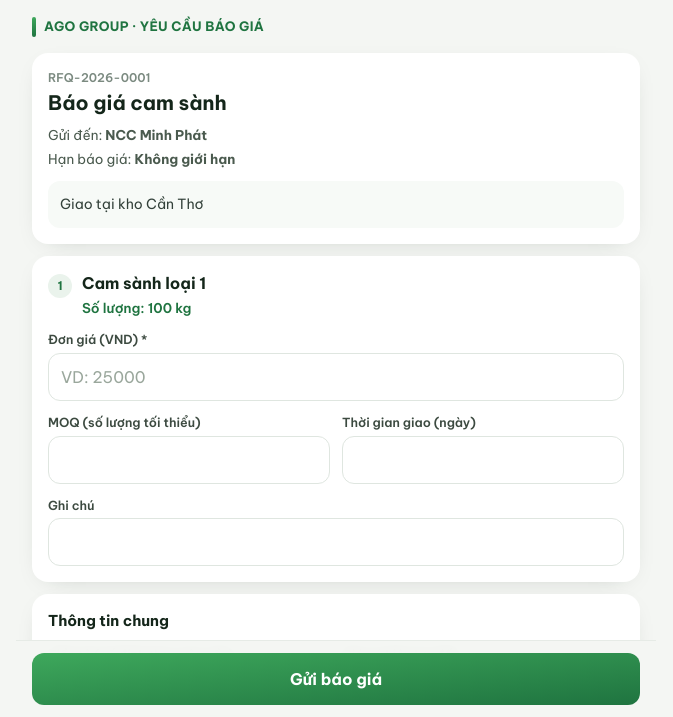
Test: PublicQuotePage › 429 hiện thông báo ngay tại form
Check: the heading "Báo giá cam sành" is shown, box [48,90,227,115]
Type "1" into the field with placeholder "VD: 25000" at x=336, y=377, box [48,353,624,401]
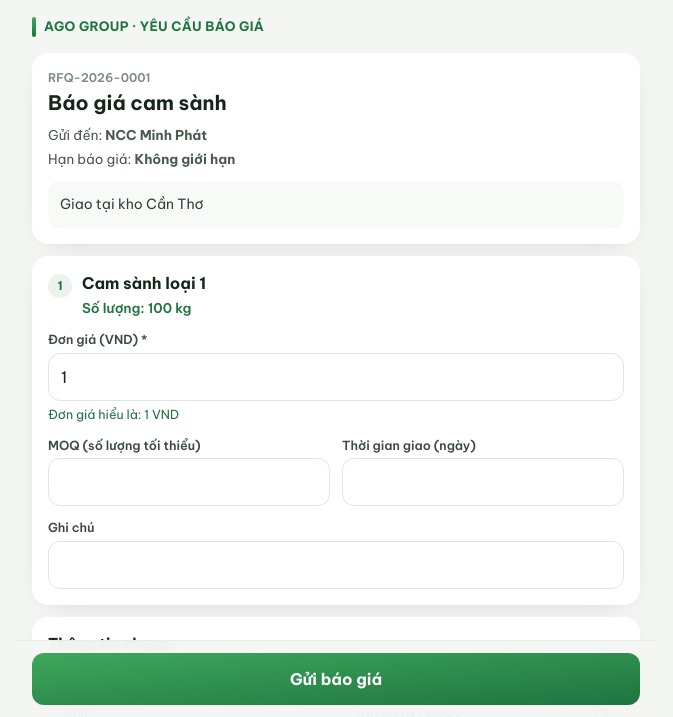
Click the button "Gửi báo giá" at x=336, y=679, box [32,653,640,705]
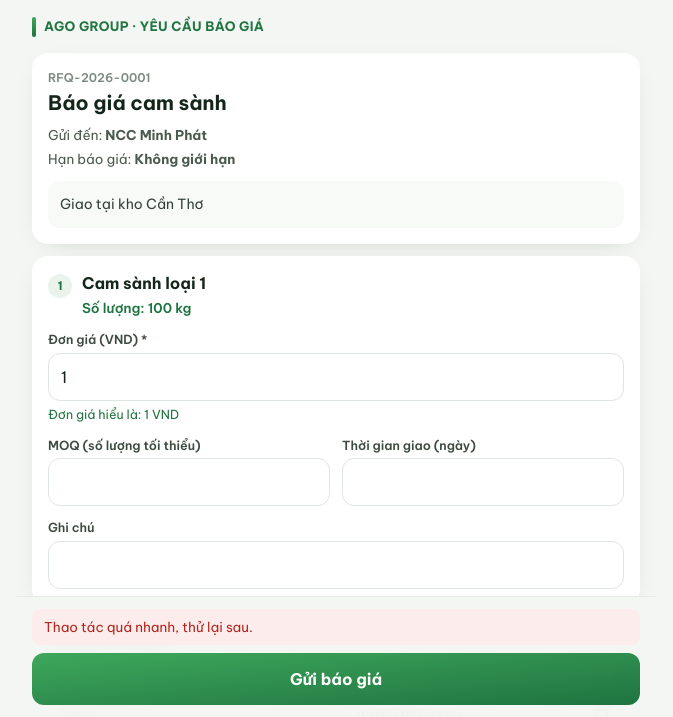
Check: the text "Thao tác quá nhanh, thử lại sau." is shown, box [32,609,640,645]
